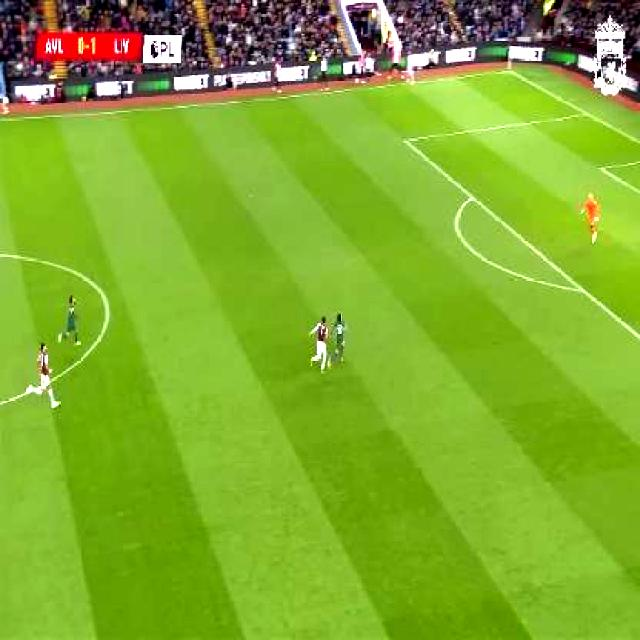bigarea_top_inner: (400, 134, 409, 146)
bigarea_top_outter: (582, 110, 589, 118)
bottom_arc_area_intersection: (576, 281, 586, 297)
corner: (502, 68, 512, 74)
smallarea_top_inner: (599, 163, 606, 172)
top_arc_area_intersection: (466, 189, 476, 202)
